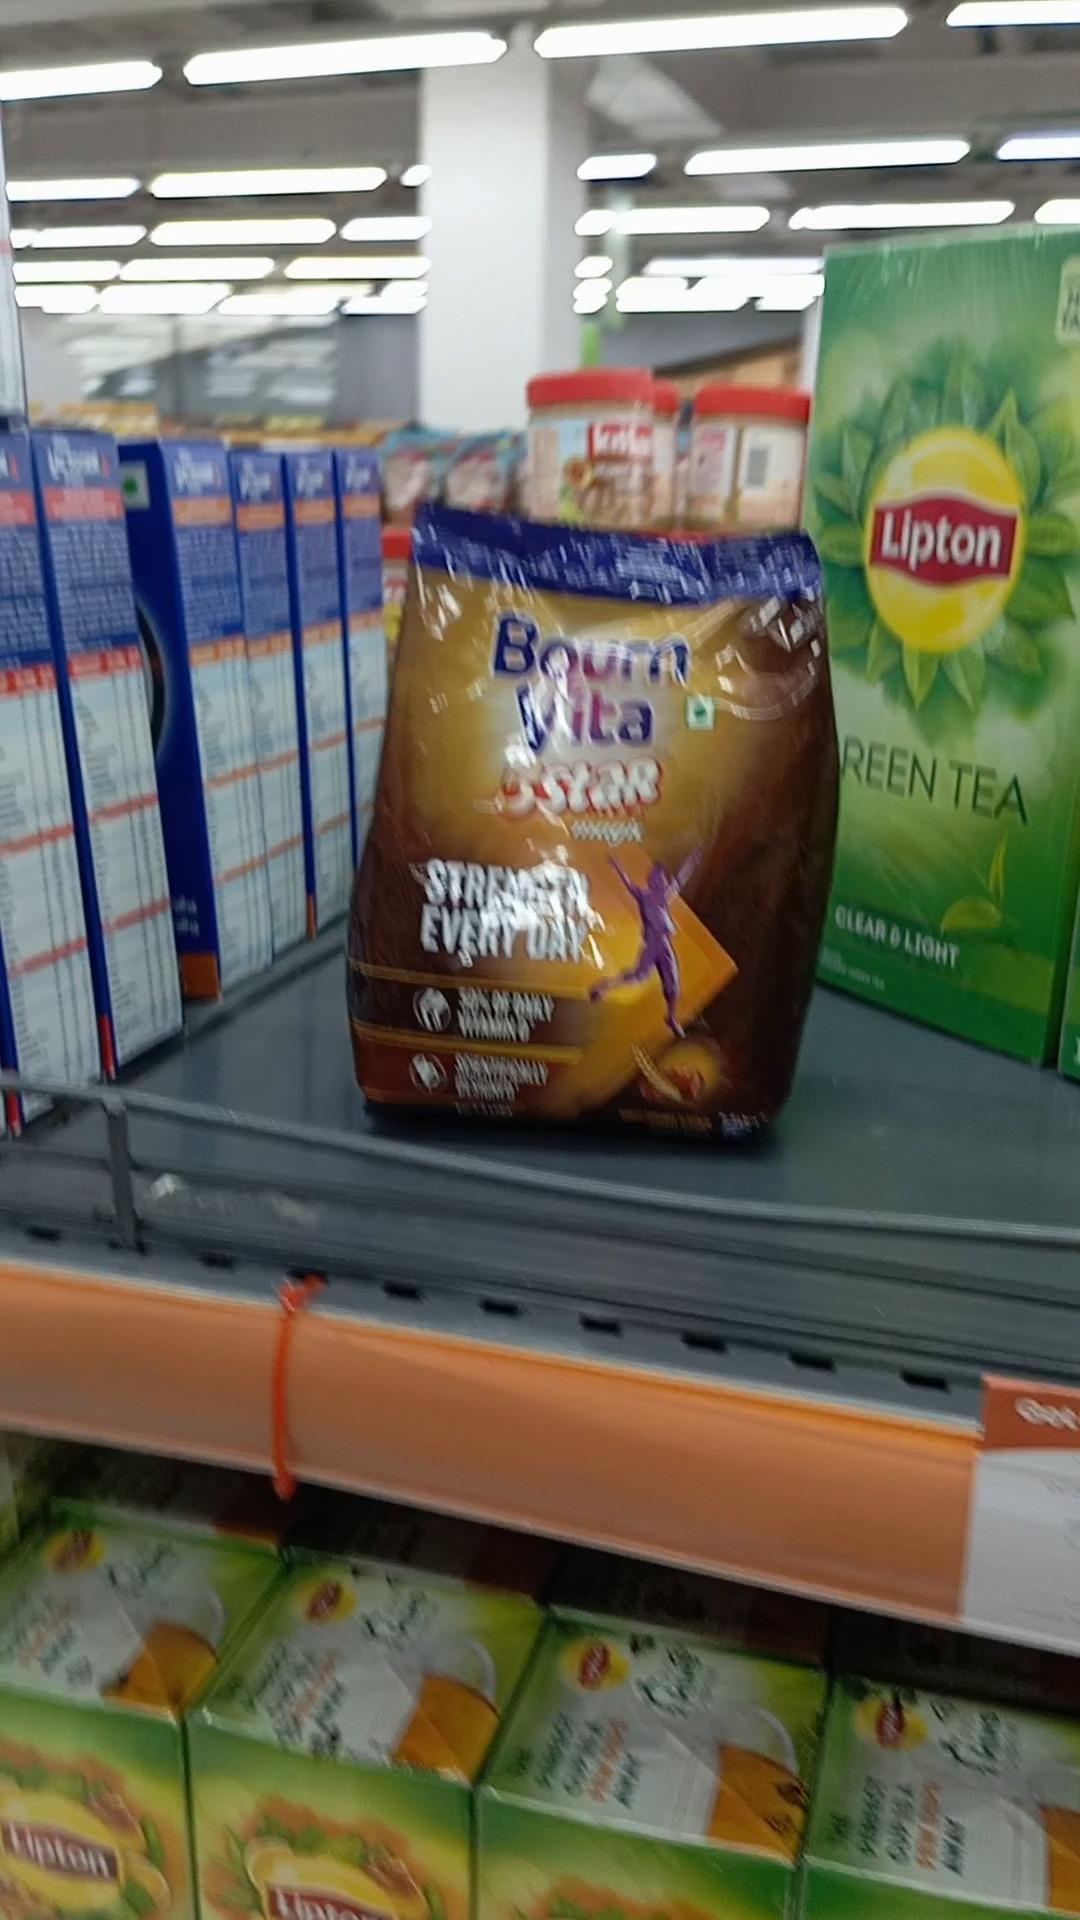BOURN_VITA_FIVE_STAR_MAGIC_500_G_POUCH: (394, 512, 798, 1141)
